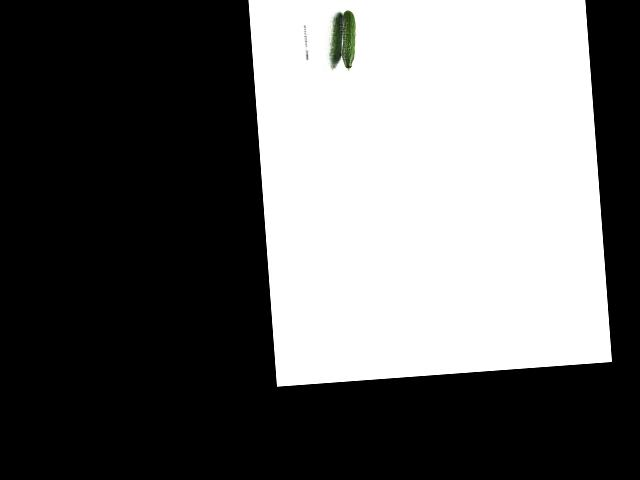cucumber: (338, 10, 358, 71)
